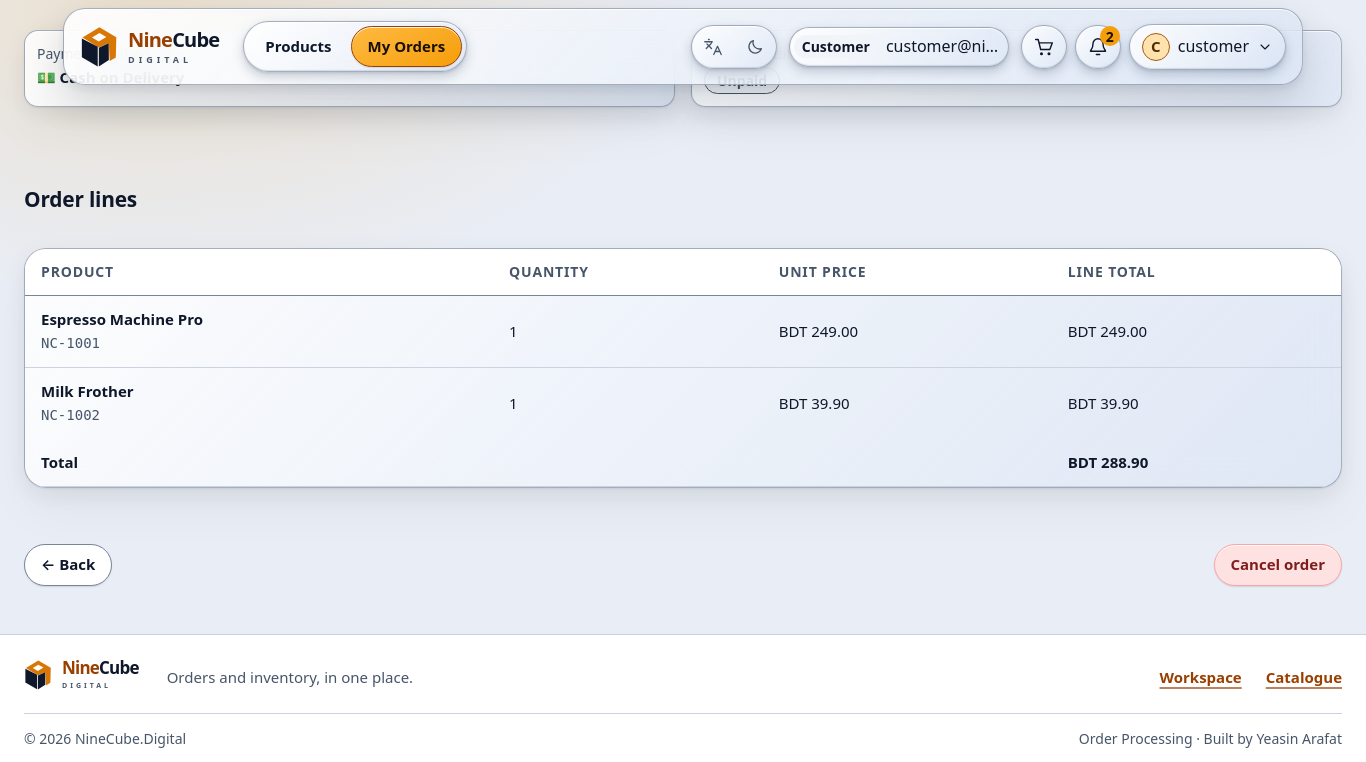
Test case: Order detail › offers cancel while the order is pending
(page scrolled)
Click the button "Cancel order": (1278, 565) [1214,544,1342,586]
(page scrolled)
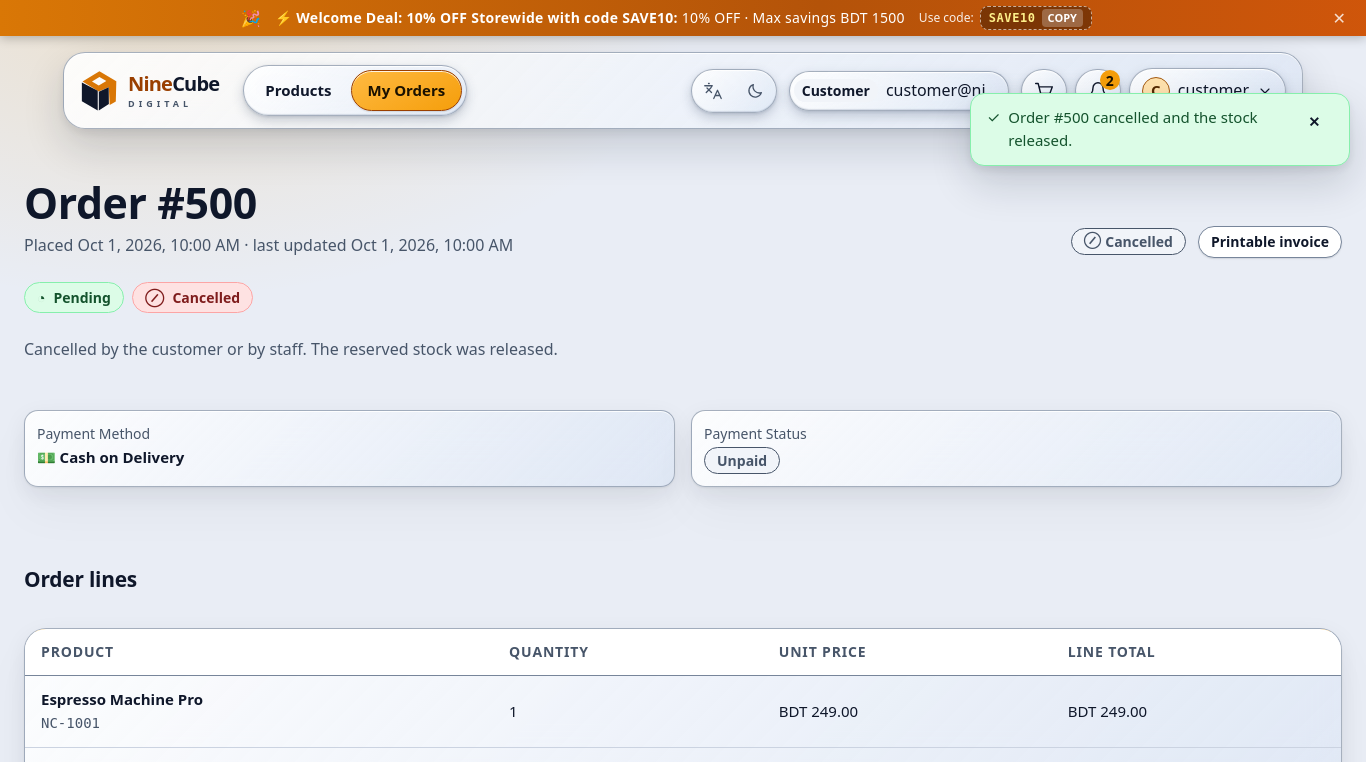
Result: the element with test id "status-Cancelled" is shown at [1071,228,1186,255]
Result: the button "Cancel order" is gone
